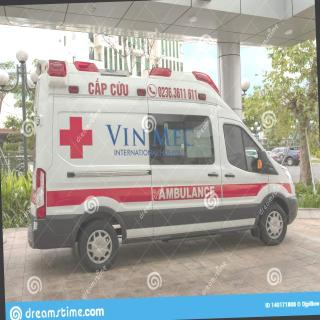Ambulance: (15, 30, 303, 280)
